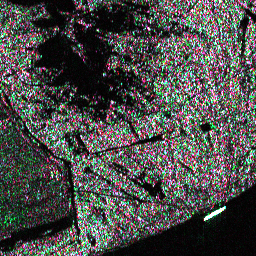ship: (200, 202, 229, 222)
